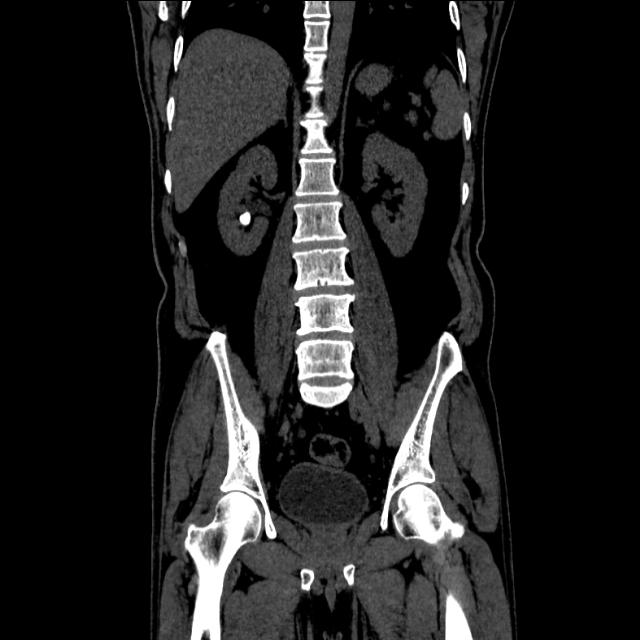kidney: (357, 127, 430, 262), (216, 140, 282, 256)
stone: (238, 204, 250, 229)
